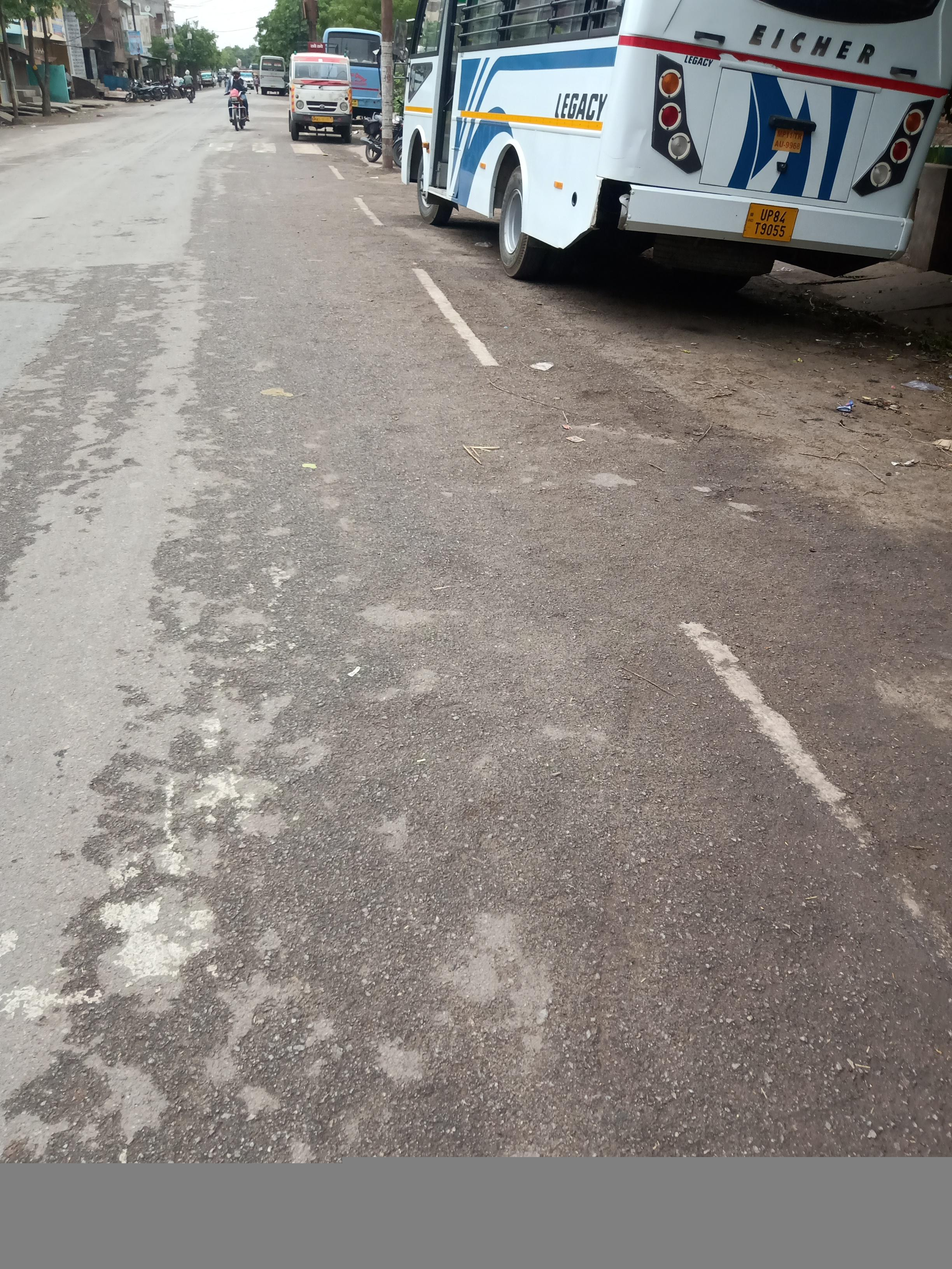Non-emergency: (276, 0, 747, 288)
